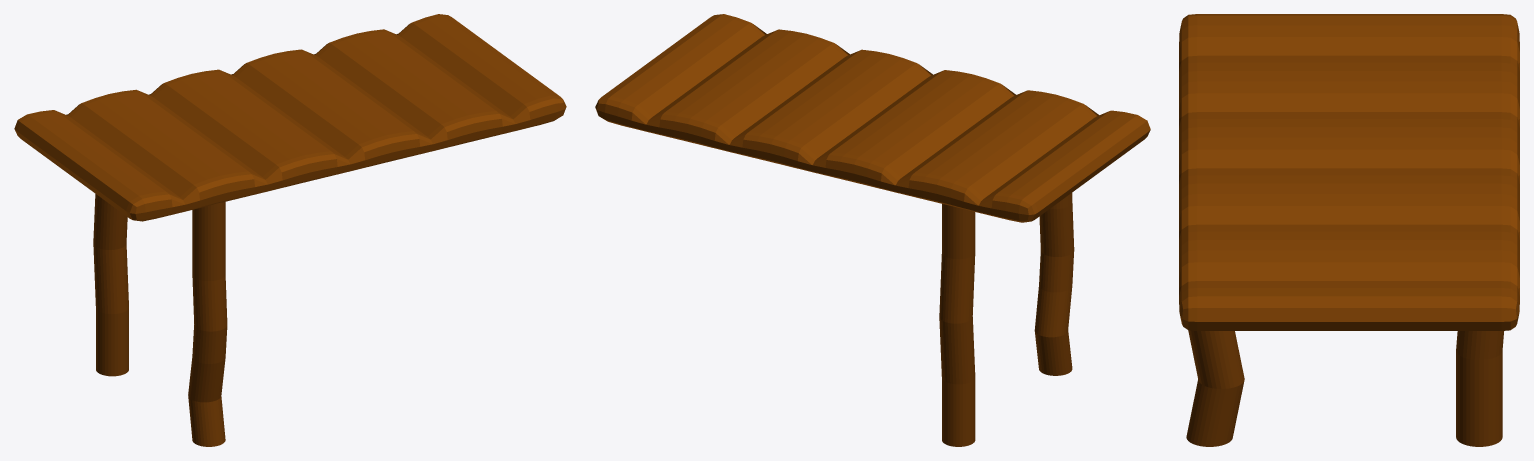
File: bridge.fbx
3 views of the same model, side by side, from view 1: azimuth 30°, elevation 25°; view 2: azimuth 150°, elevation 25°; view 3: azimuth 270°, elevation 25° (orthographic). The views are drawn at different scales.
Visible parts, largest first — view 1: Cube, Cylinder.001, Cylinder; view 2: Cube, Cylinder, Cylinder.001; view 3: Cube, Cylinder.001, Cylinder.
Boxes of the visible parts, x1,y1,x2,y2 form: Cube: (14,14,566,221); Cylinder.001: (188,202,227,446); Cylinder: (93,194,128,376); Cube: (595,14,1150,222); Cylinder: (939,204,975,446); Cylinder.001: (1034,193,1074,375); Cube: (1179,14,1519,330); Cylinder.001: (1186,330,1244,446); Cylinder: (1456,331,1503,446).
Size of the model in its own units: 551 by 319 by 265.
